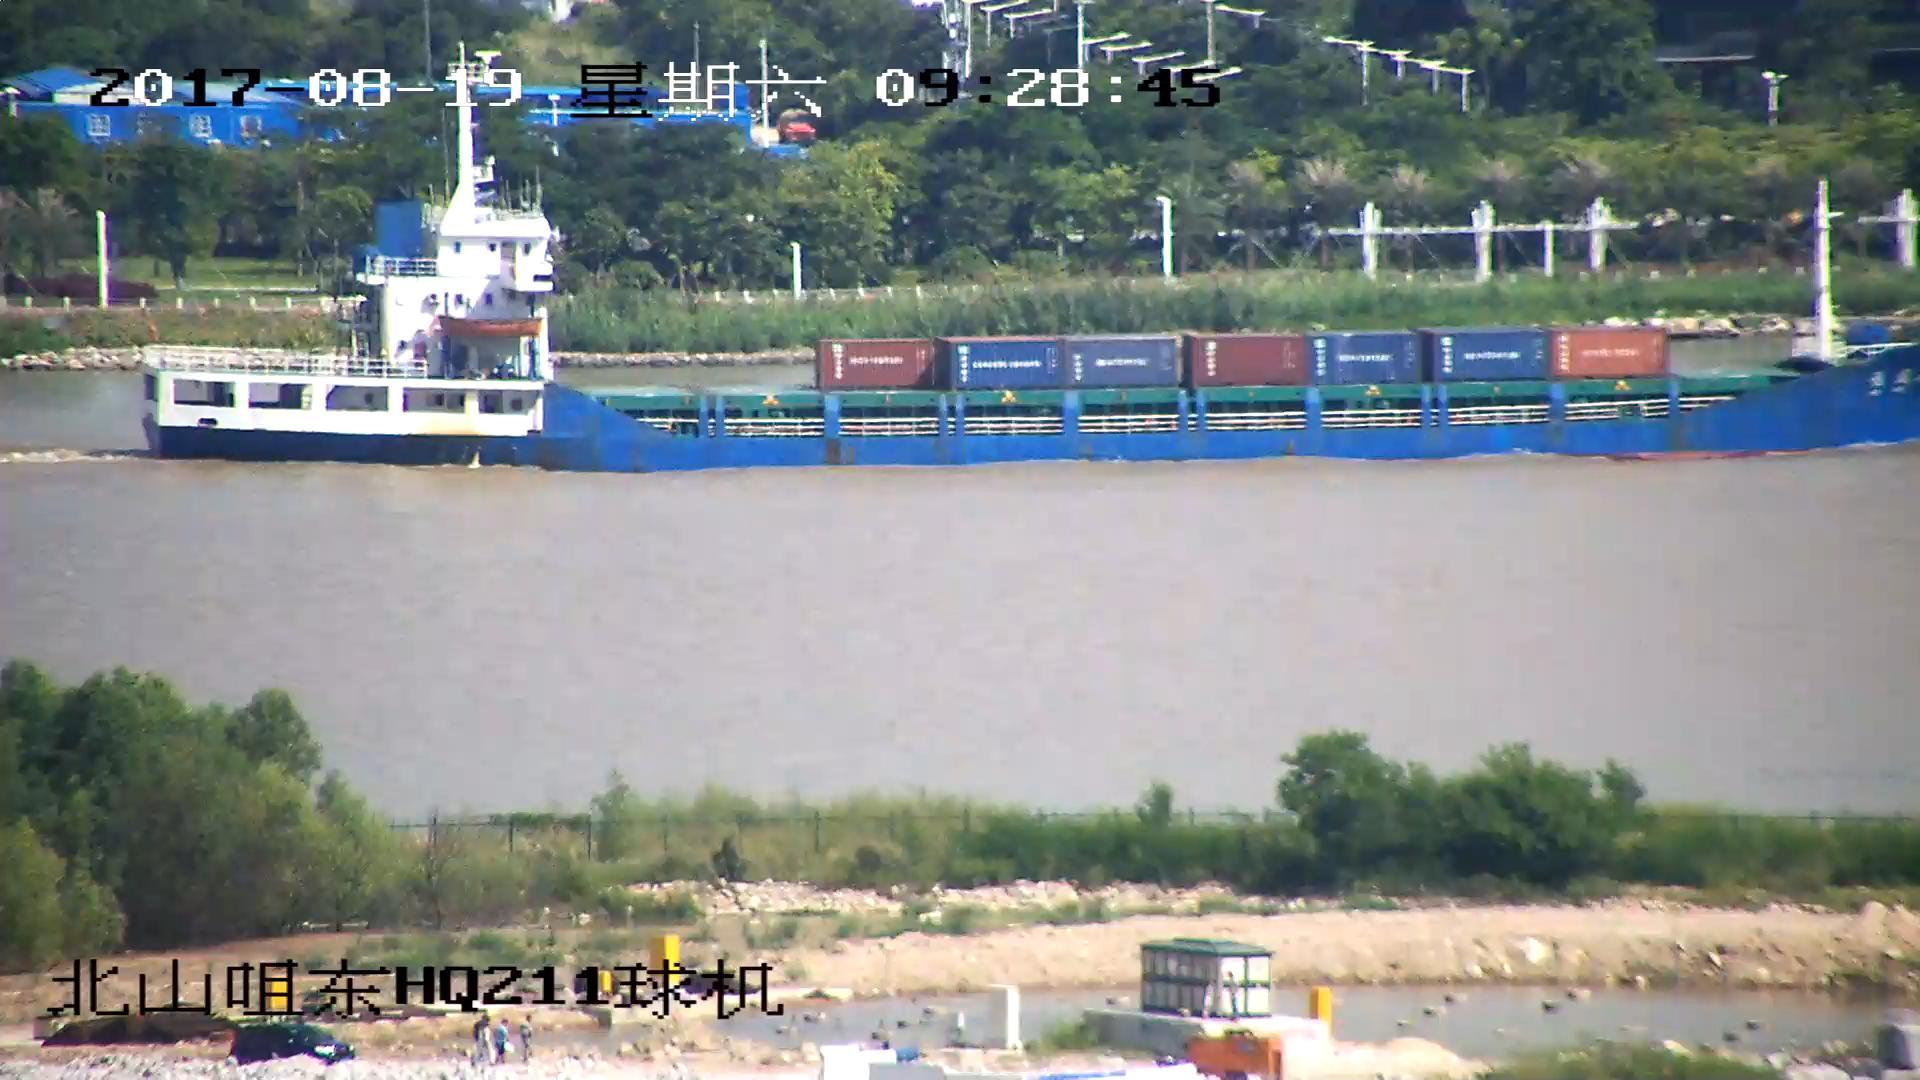Ship: (128, 109, 1920, 468)
